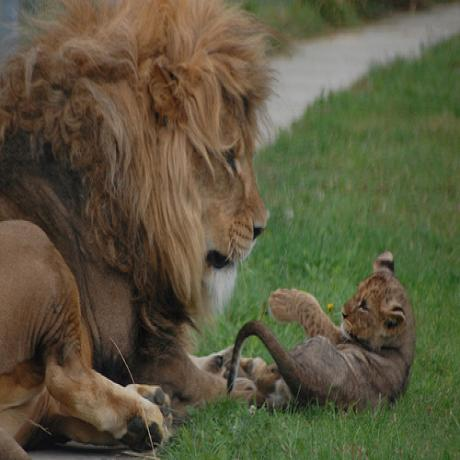Lion: (0, 0, 271, 460), (234, 251, 414, 404)
